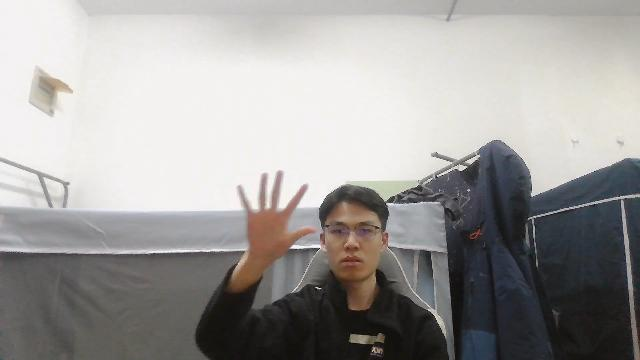five: (234, 166, 318, 267)
